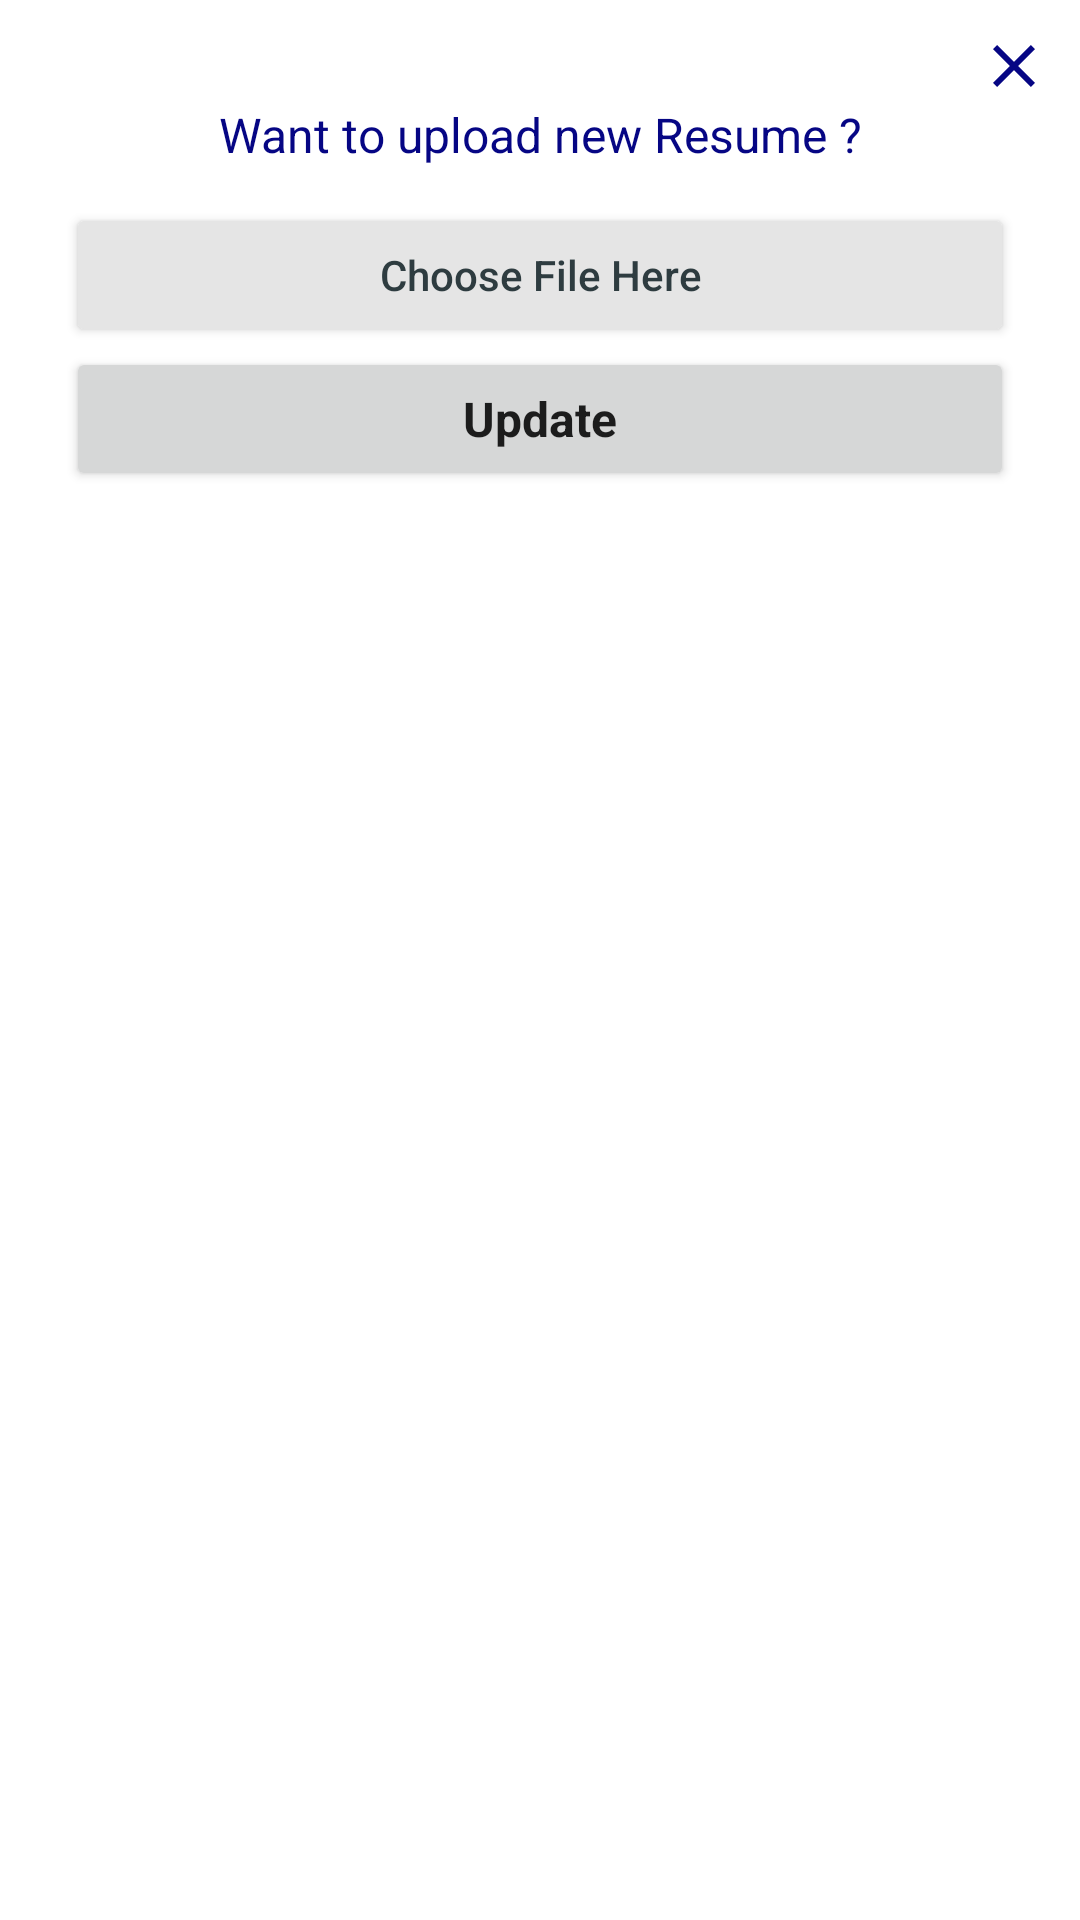

Point at icon controls on the screen. Image size 1080x1920, points as (x=x, y=y).
close: (x=1014, y=66)
